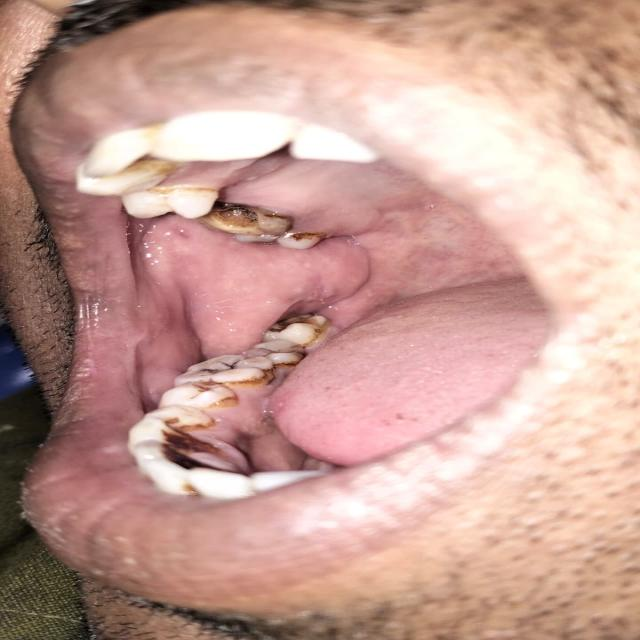processing_area: (90, 166, 561, 457)
